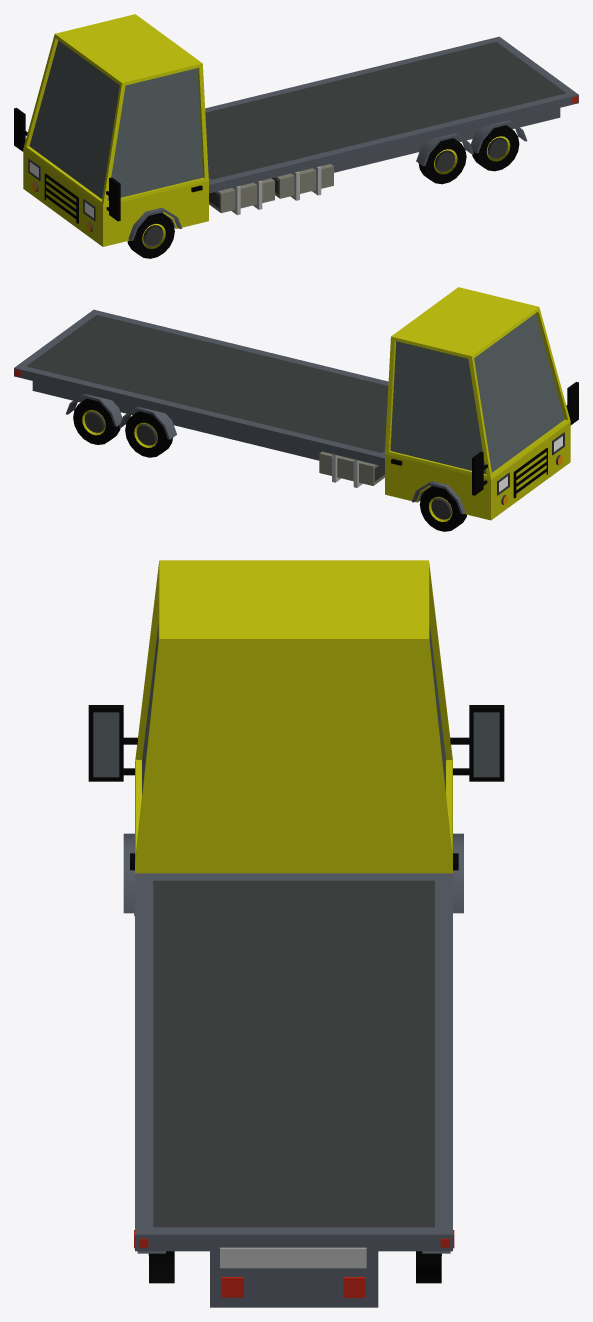
Rendered from car7C.FBX.
The picture shows the model from 3 angles, top to bottom: view 1: azimuth 30°, elevation 25°; view 2: azimuth 150°, elevation 25°; view 3: azimuth 270°, elevation 25°; orthographic projection. The views are drawn at different scales.
Visible parts, largest first — view 1: car7C; view 2: car7C; view 3: car7C.
Part boxes in pixels (x1,y1,x2,y2): car7C: [14, 14, 578, 258]; car7C: [14, 287, 578, 531]; car7C: [88, 560, 504, 1307].
Size of the model in its own units: 17.4 by 6.13 by 6.53.
